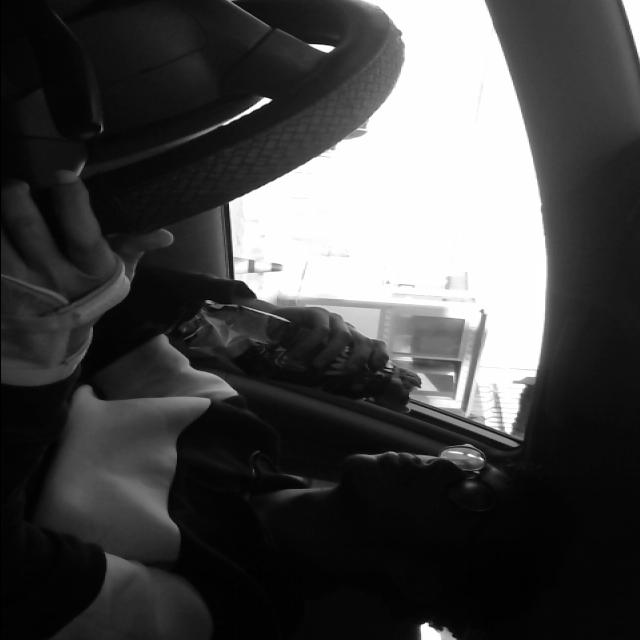eating: (148, 282, 430, 426)
